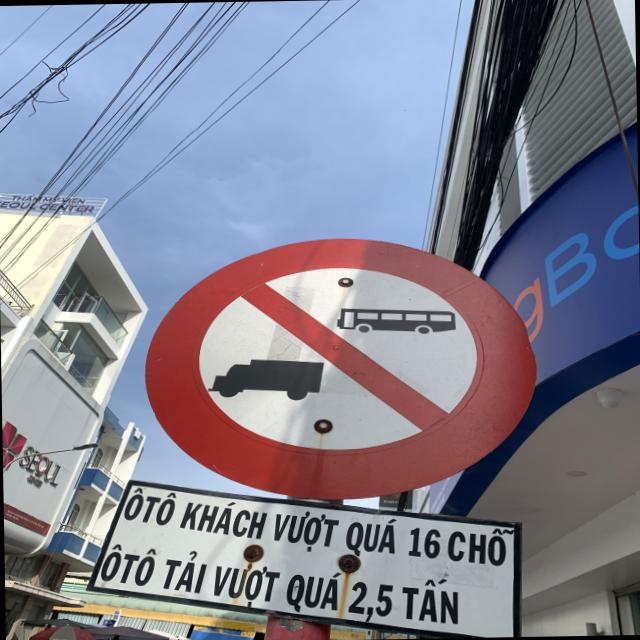Cam_XeTai_XeKhach: (142, 232, 540, 503)
